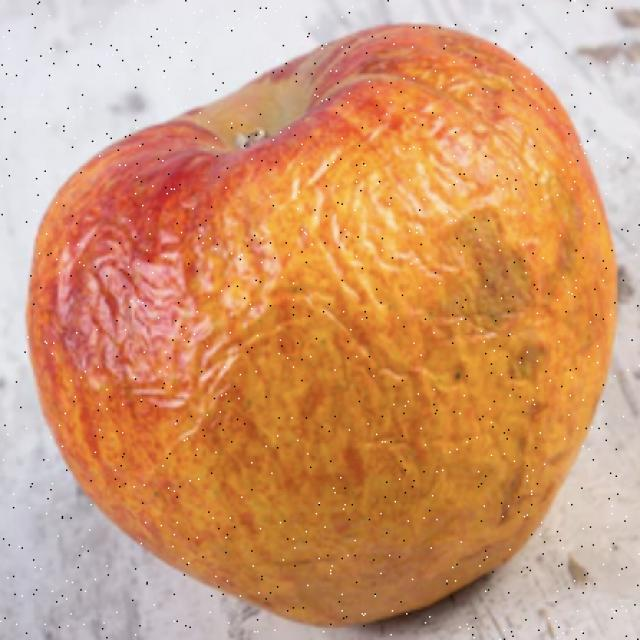Rotten: (59, 41, 608, 602)
